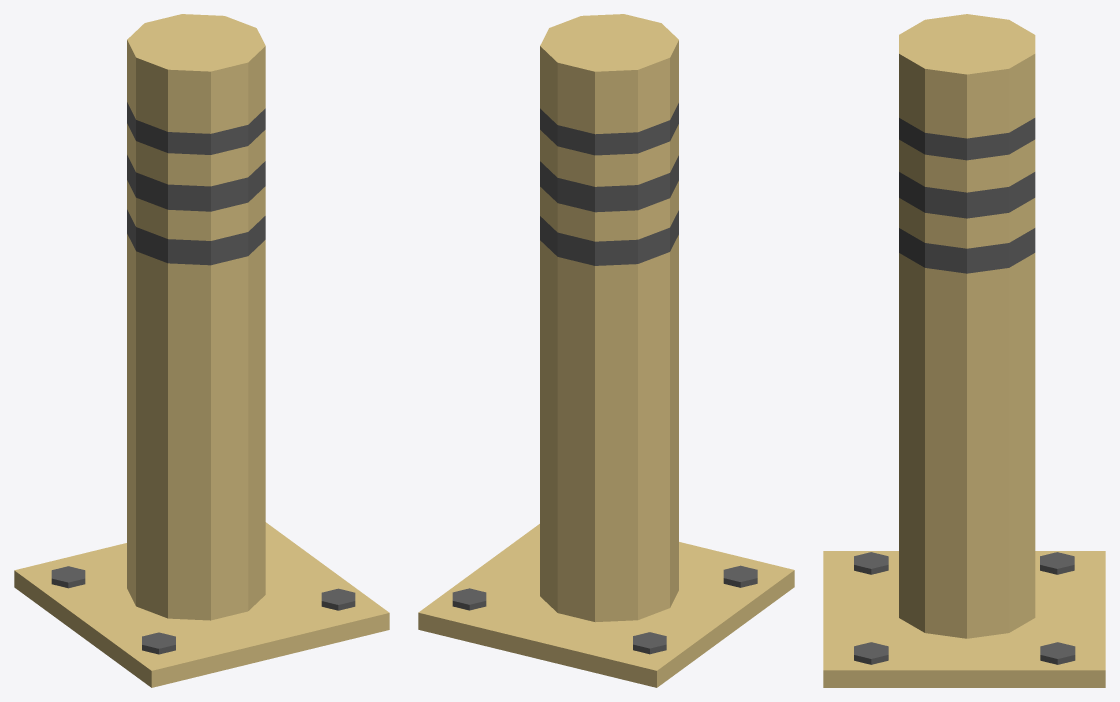
Rendered from SM_Post.fbx.
3 views of the same model, side by side, from view 1: azimuth 30°, elevation 25°; view 2: azimuth 150°, elevation 25°; view 3: azimuth 270°, elevation 25° (orthographic). The views are drawn at different scales.
Parts seen in each view (by area): view 1: pCylinder11; view 2: pCylinder11; view 3: pCylinder11.
Boxes of the visible parts, bbox=[...] form: pCylinder11: bbox=[14, 14, 389, 687]; pCylinder11: bbox=[418, 14, 794, 687]; pCylinder11: bbox=[823, 14, 1105, 687].
Bounding box in the file's own units: 0.9879 × 2.24 × 0.9879.
